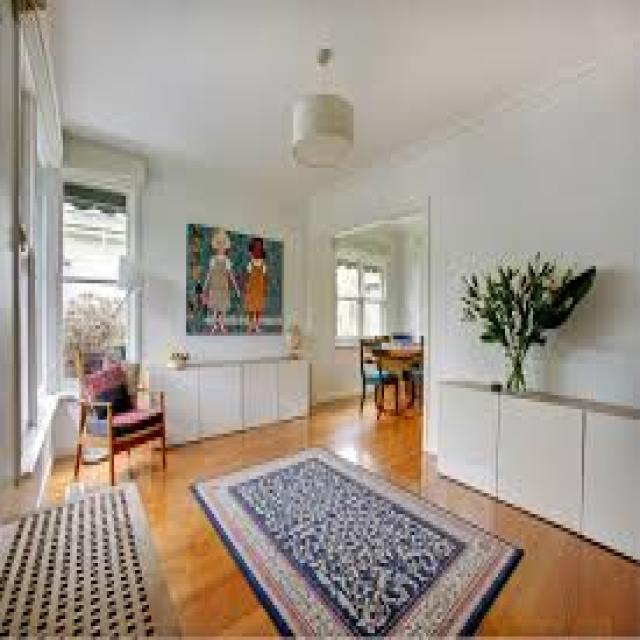Chair: (74, 359, 172, 477), (359, 325, 402, 422)
Lamp: (289, 38, 360, 168)
